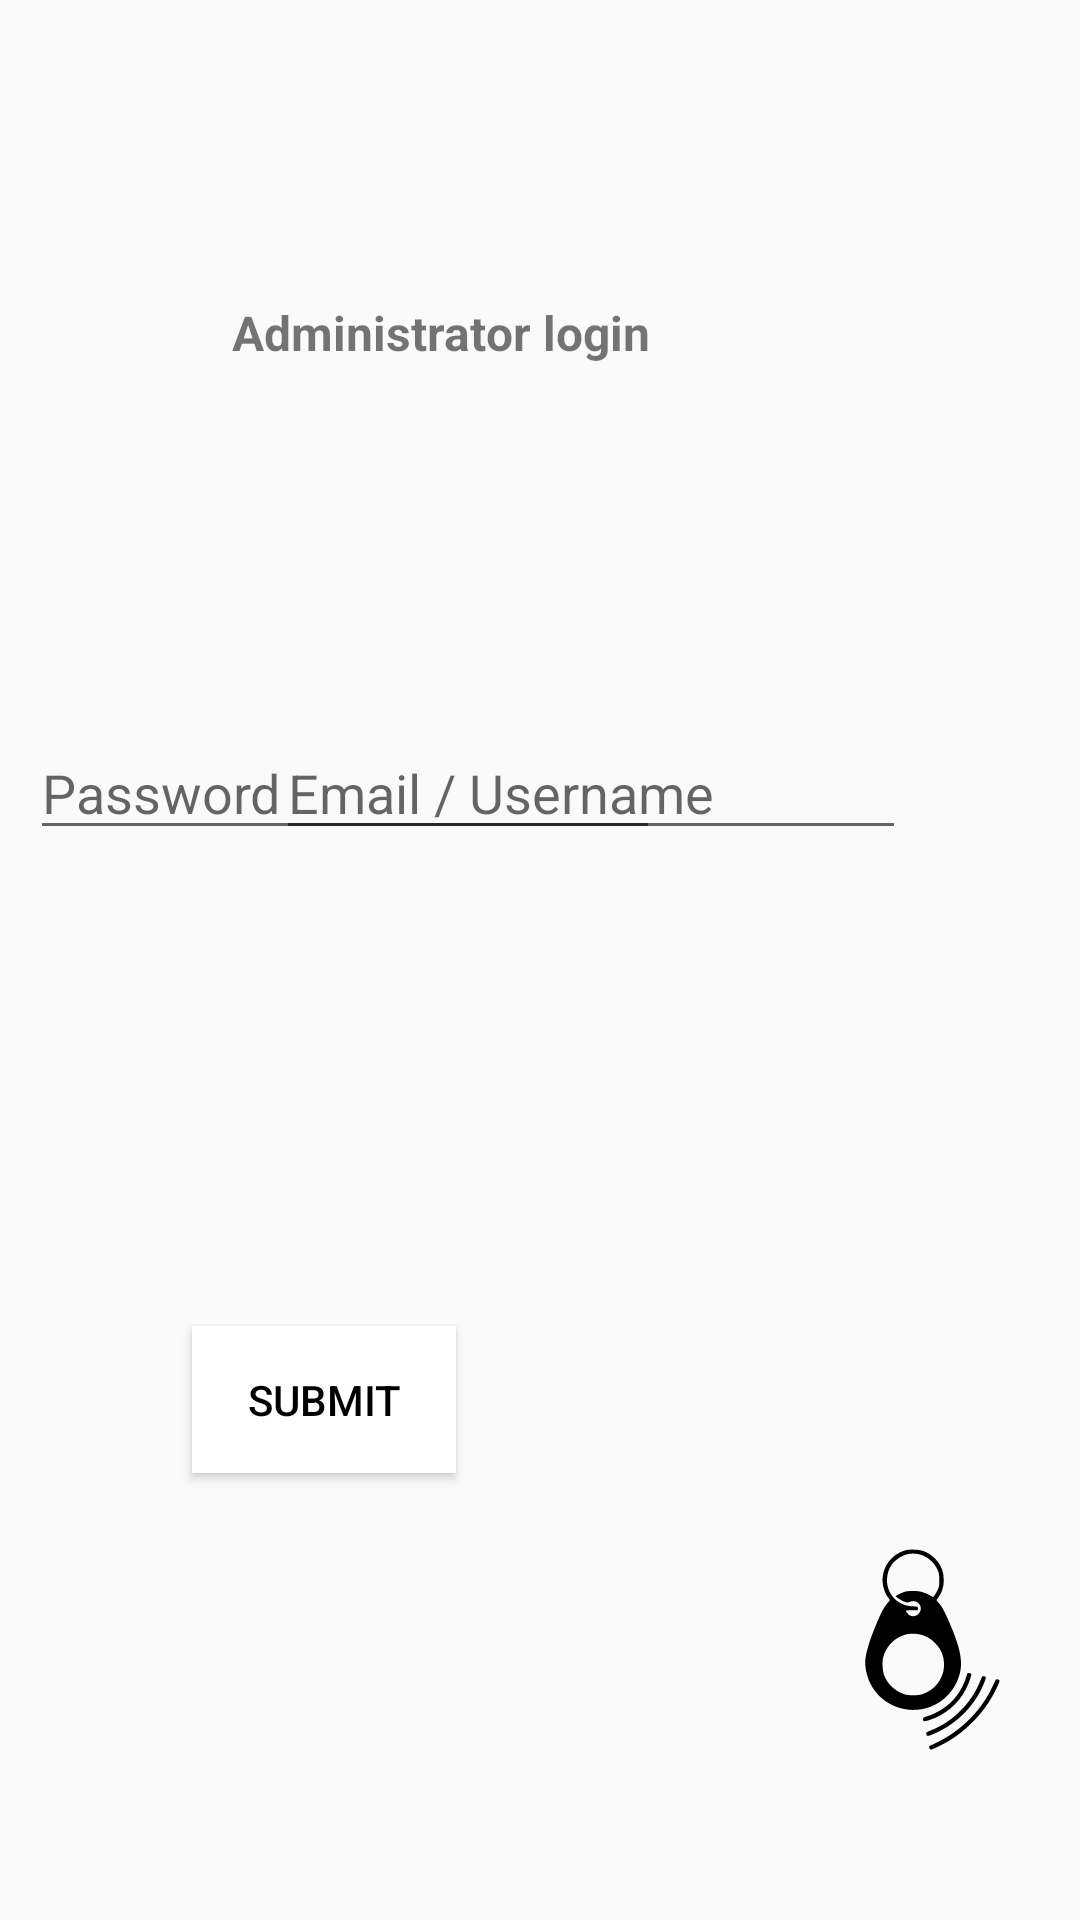

Icon click points for this 1080 × 1920 phone screenshot, format (x,y):
keyfob: (932,1649)
